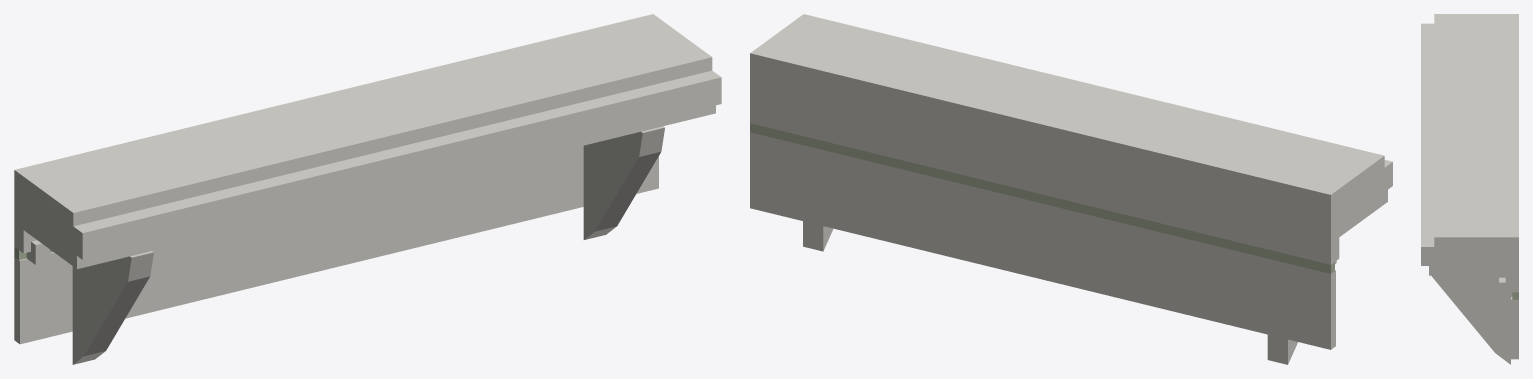
File: cornice_b.glb
3 views of the same model, side by side, from view 1: azimuth 30°, elevation 25°; view 2: azimuth 150°, elevation 25°; view 3: azimuth 270°, elevation 25° (orthographic). The views are drawn at different scales.
Visible parts, largest first — view 1: cornice_b_trim; view 2: cornice_b_trim, cornice_b_acc_b; view 3: cornice_b_trim.
Part boxes in pixels (x1,y1,x2,y2): cornice_b_trim: [14, 14, 721, 364]; cornice_b_trim: [750, 14, 1392, 364]; cornice_b_acc_b: [750, 123, 1334, 273]; cornice_b_trim: [1421, 14, 1518, 364].
Size of the model in its own units: 2 by 0.61 by 0.37.
